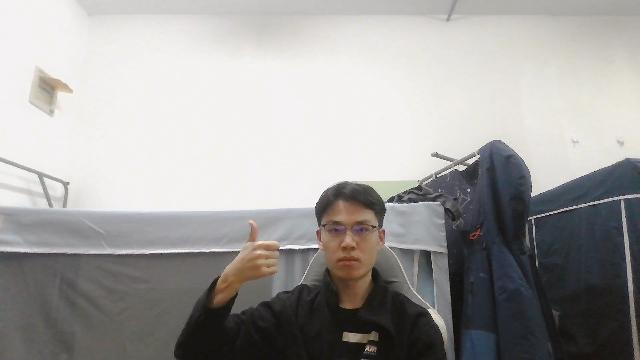good: (228, 217, 283, 285)
